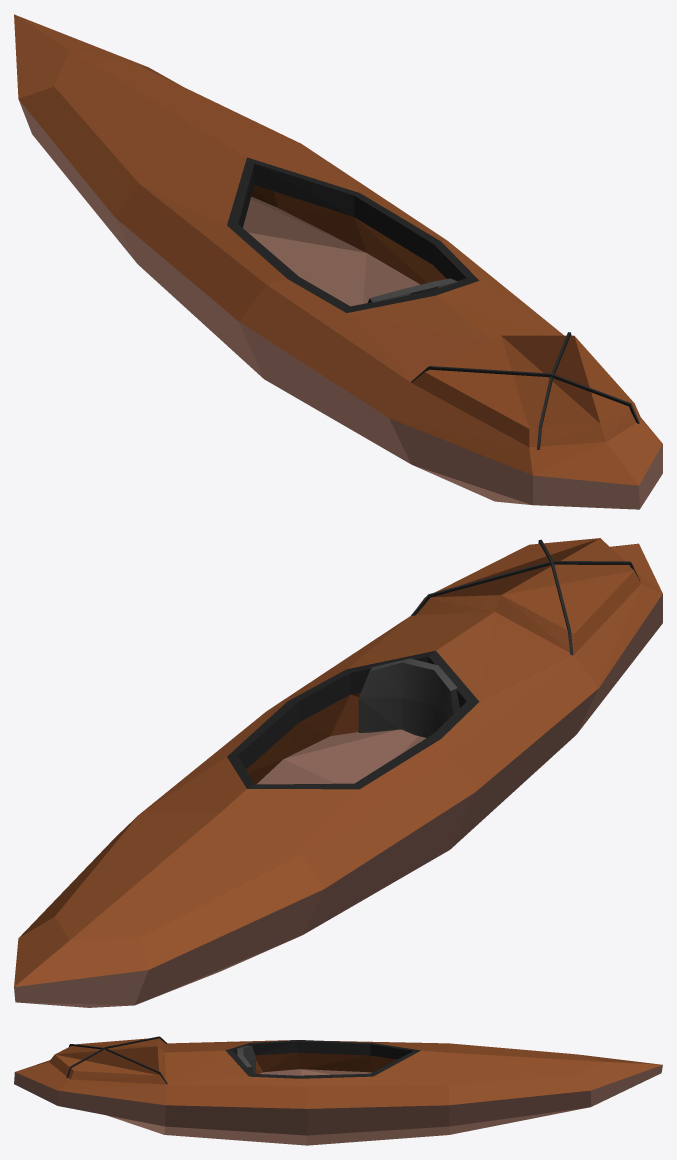
File: kayak.glb
3 views of the same model, one above another, from view 1: azimuth 30°, elevation 25°; view 2: azimuth 150°, elevation 25°; view 3: azimuth 270°, elevation 25° (orthographic). The views are drawn at different scales.
Visible parts, largest first — view 1: Kayak_mesh; view 2: Kayak_mesh; view 3: Kayak_mesh.
Boxes of the visible parts, box(x1,y1,x2,y2) form: Kayak_mesh: box(14, 14, 662, 509); Kayak_mesh: box(14, 538, 662, 1007); Kayak_mesh: box(14, 1036, 662, 1145).
Bounding box in the file's own units: 0.8717 × 0.6741 × 4.
